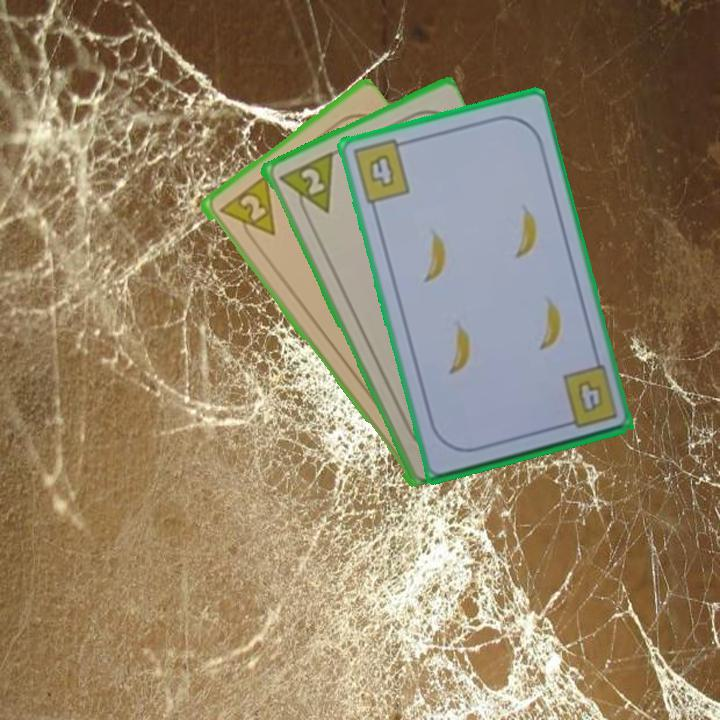2p: (215, 172, 278, 249), (296, 164, 327, 198)
4b: (348, 136, 413, 207), (556, 362, 620, 432)
